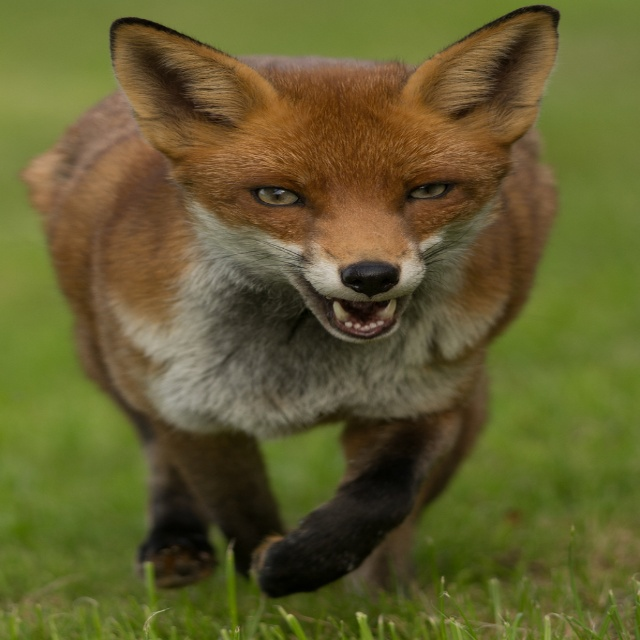Fox: (17, 3, 562, 598)
